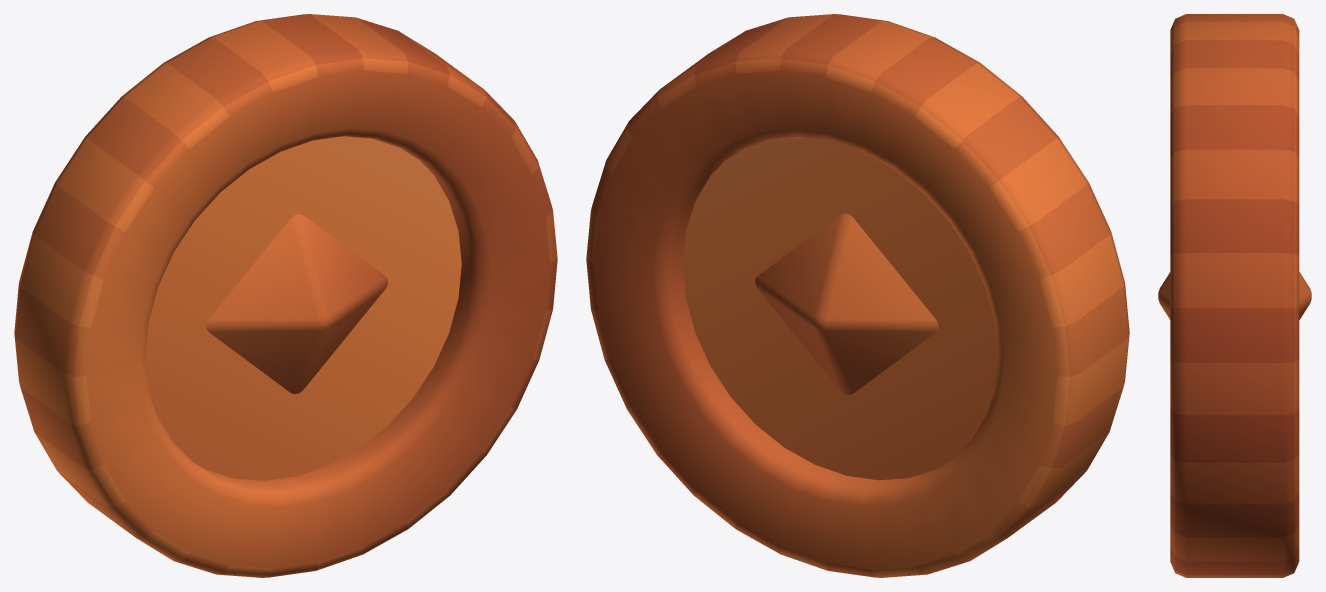
File: Coin_V2_0.fbx
3 views of the same model, side by side, from view 1: azimuth 30°, elevation 25°; view 2: azimuth 150°, elevation 25°; view 3: azimuth 270°, elevation 25° (orthographic).
Visible parts, largest first — view 1: Coin_V2_0; view 2: Coin_V2_0; view 3: Coin_V2_0.
Part boxes in pixels (box(x1,y1,x2,y2)): Coin_V2_0: box(14, 14, 557, 577); Coin_V2_0: box(586, 14, 1129, 577); Coin_V2_0: box(1158, 14, 1311, 577).
Size of the model in its own units: 0.4351 by 0.4351 by 0.1181.
